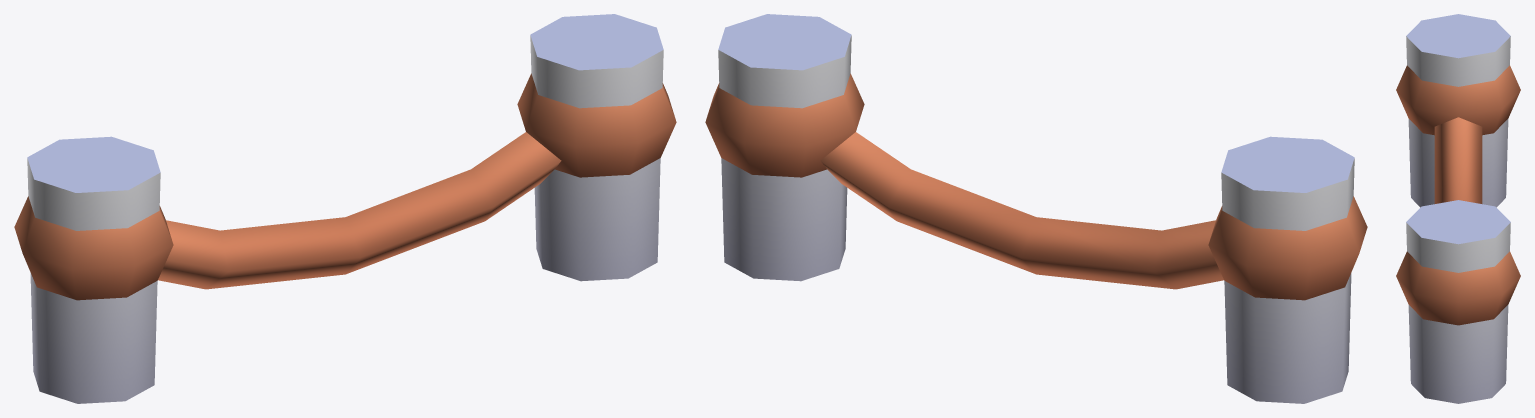
Rendered from fence-rope.glb.
The picture shows the model from 3 angles, left to right: view 1: azimuth 30°, elevation 25°; view 2: azimuth 150°, elevation 25°; view 3: azimuth 270°, elevation 25°; orthographic projection. The views are drawn at different scales.
Parts seen in each view (by area): view 1: fence-rope; view 2: fence-rope; view 3: fence-rope.
Part boxes in pixels (x1,y1,x2,y2): fence-rope: (14, 14, 676, 403); fence-rope: (705, 14, 1367, 403); fence-rope: (1396, 14, 1520, 403).
Bounding box in the file's own units: 0.95 × 0.3 × 0.21.
